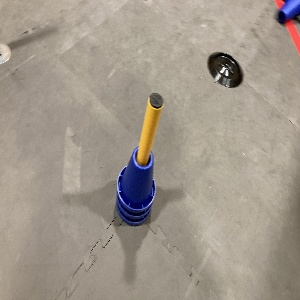Blue_3: (111, 145, 159, 225)
